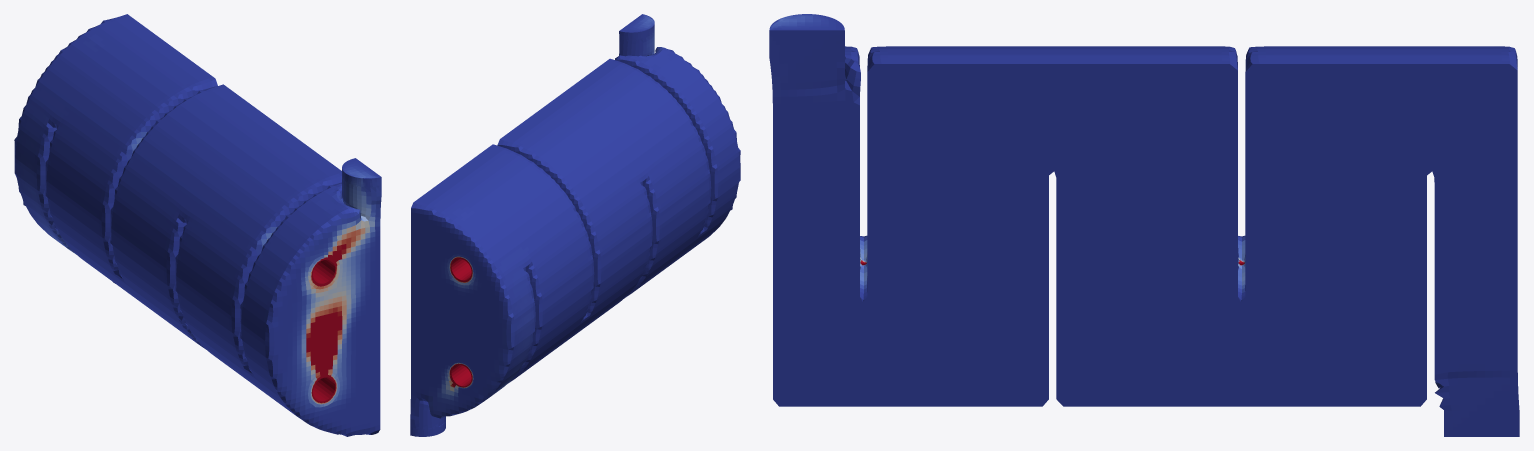
File: Shape_IndexedFaceSet.002reference_velocity.py_timestep2_time100.0_.fbx
The picture shows the model from 3 angles, left to right: view 1: azimuth 30°, elevation 25°; view 2: azimuth 150°, elevation 25°; view 3: azimuth 270°, elevation 25°; orthographic projection. The views are drawn at different scales.
Parts seen in each view (by area): view 1: Shape_IndexedFaceSet.002; view 2: Shape_IndexedFaceSet.002; view 3: Shape_IndexedFaceSet.002.
Part boxes in pixels (x1,y1,x2,y2): Shape_IndexedFaceSet.002: (14, 14, 381, 436); Shape_IndexedFaceSet.002: (410, 14, 740, 436); Shape_IndexedFaceSet.002: (769, 14, 1519, 436).
Bounding box in the file's own units: 25.37 × 59.33 × 99.2.
